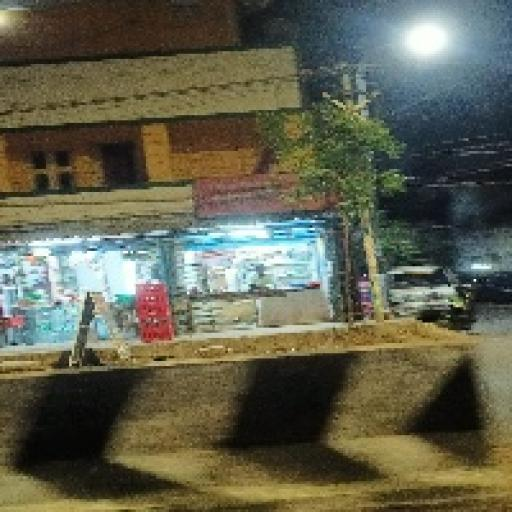Working: (398, 16, 457, 66)
